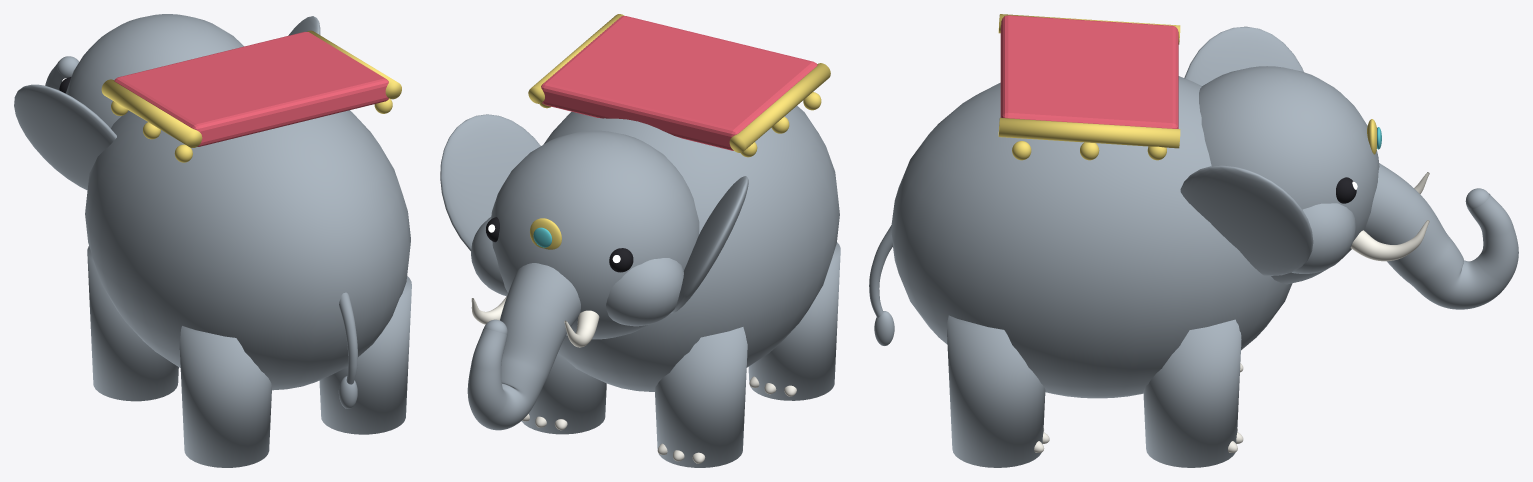
Rendered from elephant.glb.
The picture shows the model from 3 angles, left to right: view 1: azimuth 30°, elevation 25°; view 2: azimuth 150°, elevation 25°; view 3: azimuth 270°, elevation 25°; orthographic projection. The views are drawn at different scales.
Parts seen in each view (by area): view 1: Torso, Saddle_Cloth, Leg_BL, Head, Leg_BR, Leg_FL, Ear_L, Saddle_Trim_L, Tail, Saddle_Trim_R, TailTuft; view 2: Torso, Head, Saddle_Cloth, Trunk, Leg_FL, Ear_R, Leg_BL, Leg_FR, Cheek_L, Ear_L, Saddle_Trim_L, Cheek_R (+5 smaller); view 3: Torso, Head, Saddle_Cloth, Leg_BR, Leg_FR, Trunk, Ear_R, Ear_L, Saddle_Trim_R, Cheek_R, Tusk_R, Tail.
Part boxes in pixels (x1,y1,x2,y2): Torso: (85, 110, 410, 390); Saddle_Cloth: (114, 32, 388, 146); Leg_BL: (179, 326, 271, 467); Head: (65, 14, 243, 128); Leg_BR: (319, 276, 411, 434); Leg_FL: (87, 246, 178, 401); Ear_L: (14, 84, 116, 190); Saddle_Trim_L: (101, 79, 202, 147); Tail: (339, 292, 357, 384); Saddle_Trim_R: (307, 30, 401, 99); TailTuft: (338, 376, 357, 408); Torso: (543, 106, 839, 391); Head: (491, 130, 699, 339); Saddle_Cloth: (541, 16, 817, 150); Trunk: (467, 263, 580, 430); Leg_FL: (654, 327, 747, 467); Ear_R: (440, 114, 540, 251); Leg_BL: (748, 242, 840, 400); Leg_FR: (521, 353, 606, 434); Cheek_L: (606, 258, 683, 326); Ear_L: (671, 176, 748, 313); Saddle_Trim_L: (729, 63, 830, 152); Cheek_R: (471, 217, 507, 296); Torso: (891, 76, 1292, 398); Head: (1199, 66, 1379, 284); Saddle_Cloth: (1000, 15, 1178, 128); Leg_BR: (947, 315, 1045, 467); Leg_FR: (1143, 319, 1241, 467); Trunk: (1364, 163, 1518, 309); Ear_R: (1180, 165, 1313, 275); Ear_L: (1184, 26, 1303, 85); Saddle_Trim_R: (998, 117, 1180, 148); Cheek_R: (1292, 203, 1355, 273); Tusk_R: (1350, 220, 1429, 261); Tail: (869, 225, 892, 317).
Bounding box in the file's own units: 2.18 × 2.39 × 4.02.
